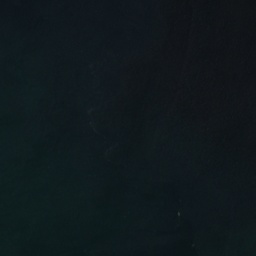Marine Debris: (177, 212, 181, 216)
